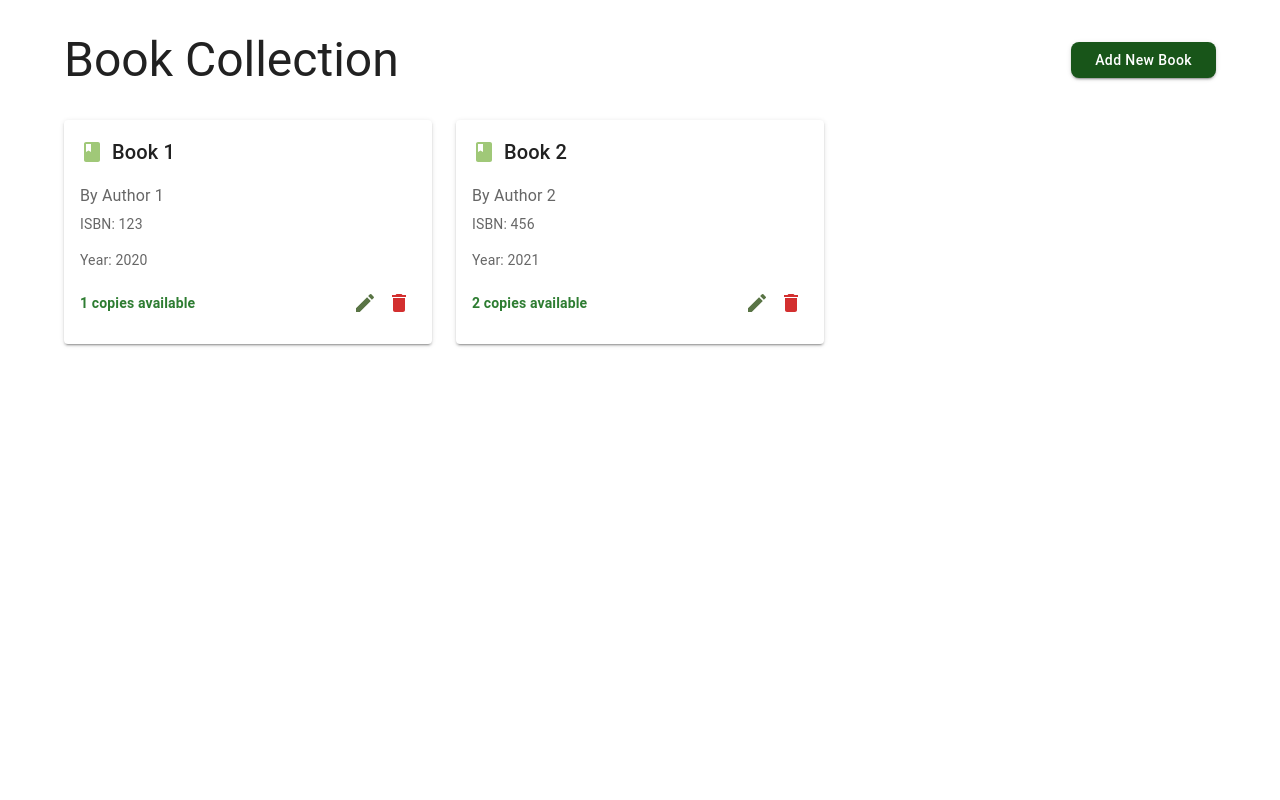
Test: BookList › handles delete operation
Expected: the heading "Book 1" is shown, [112,136,175,168]
Note: Click delete button
Click the button with test id "DeleteIcon".
click(399, 303)  # box [382,286,416,320]
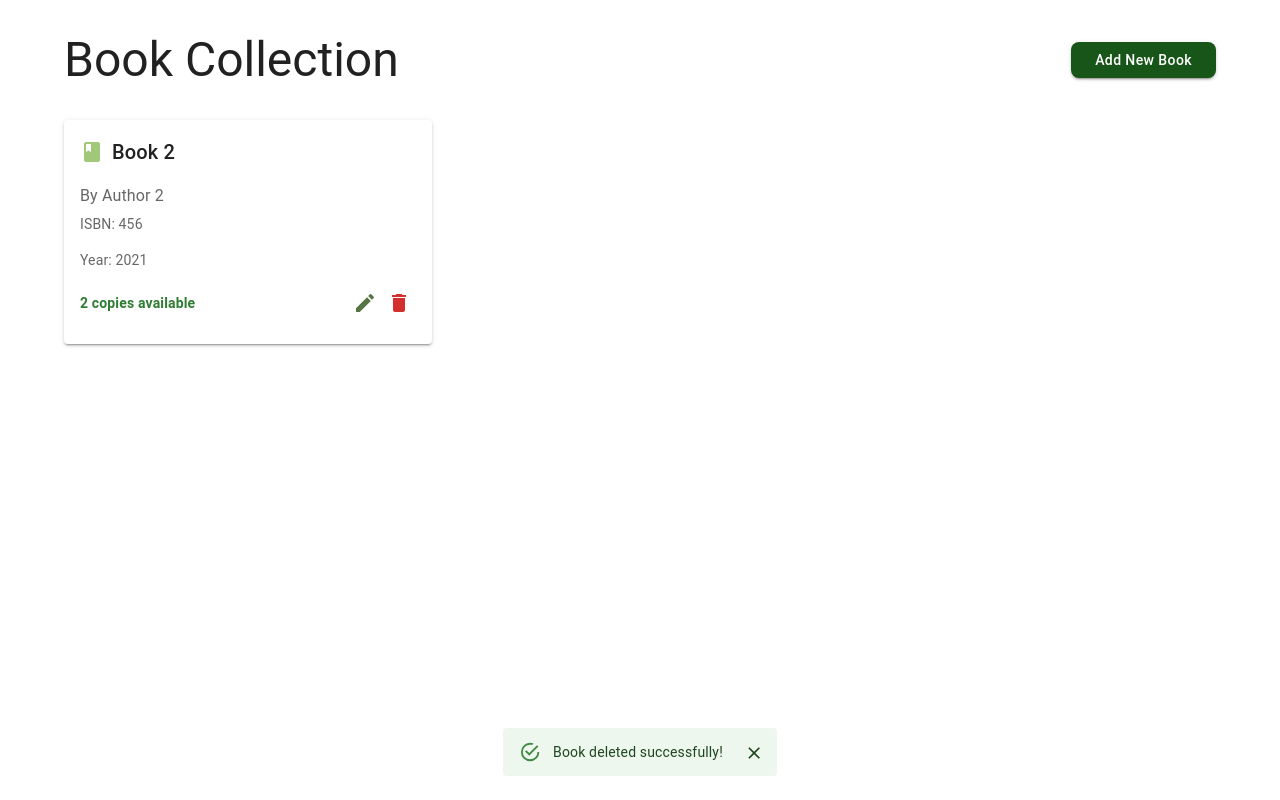
Result: the text "Book deleted successfully!" is shown at [553,744,723,760]
